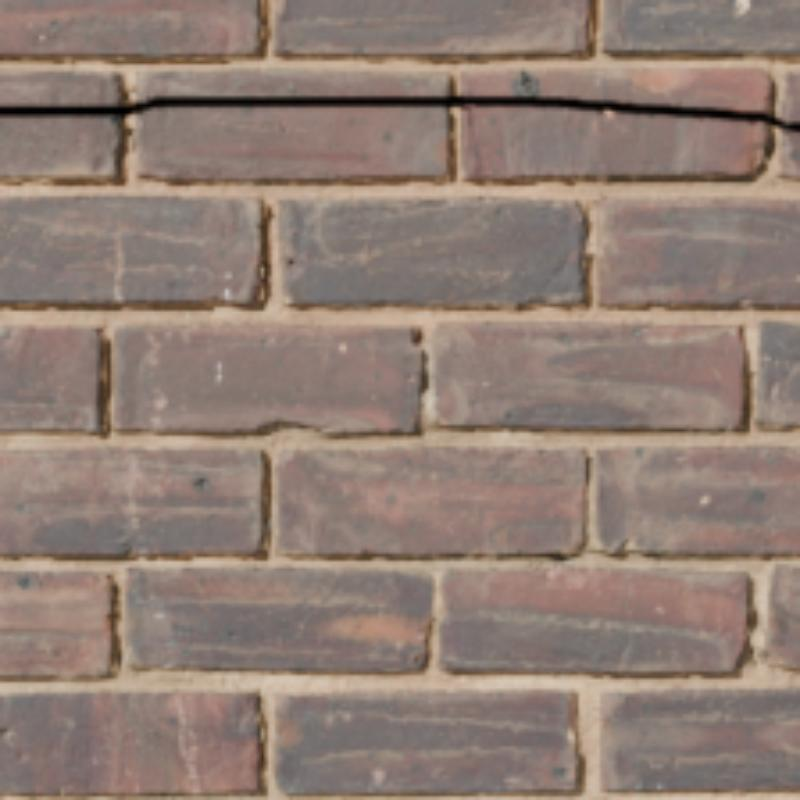crack: (2, 98, 799, 134)
